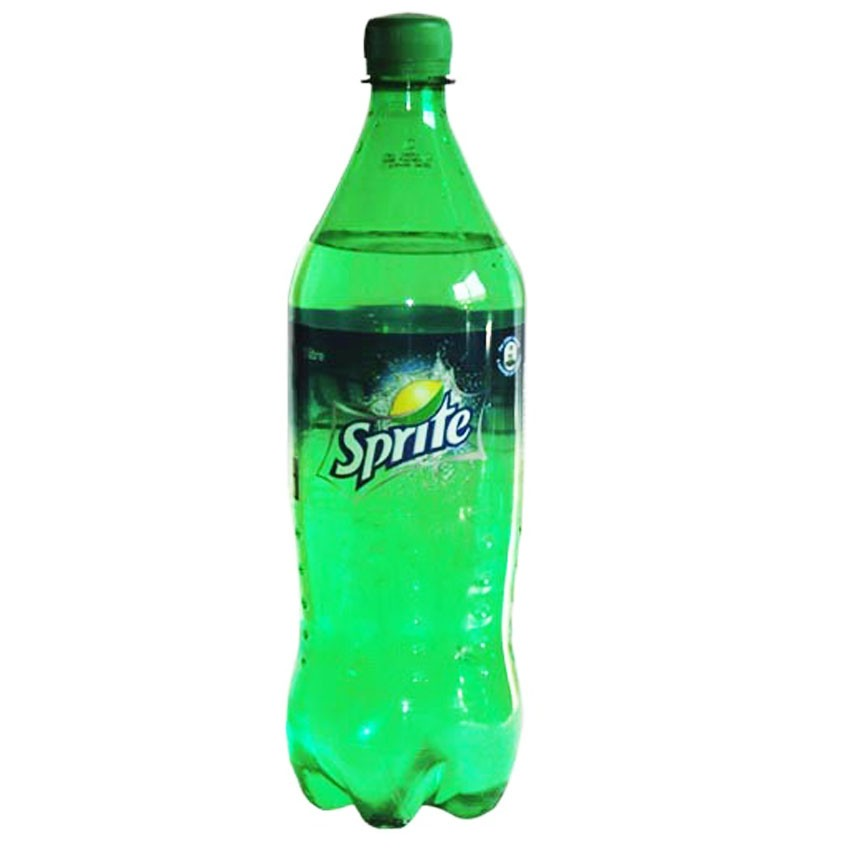Sprite: (271, 22, 537, 827)
